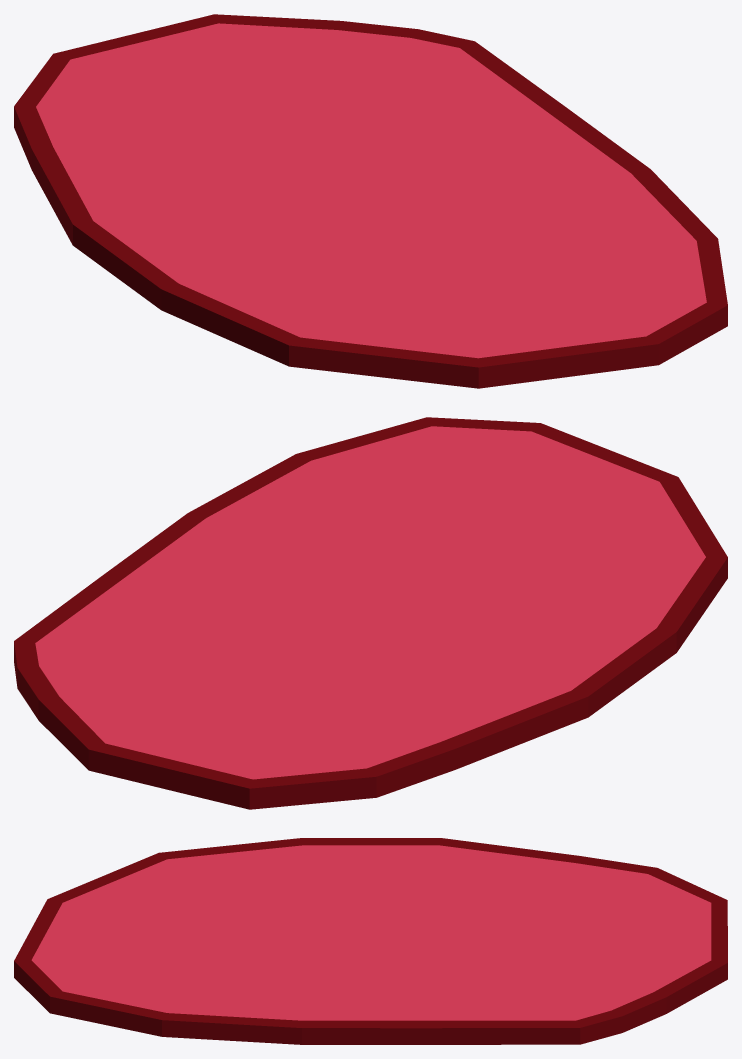
The model's file is wolf meat.fbx.
The picture shows the model from 3 angles, top to bottom: view 1: azimuth 30°, elevation 25°; view 2: azimuth 150°, elevation 25°; view 3: azimuth 270°, elevation 25°; orthographic projection. The views are drawn at different scales.
Parts seen in each view (by area): view 1: Plane; view 2: Plane; view 3: Plane.
Boxes of the visible parts, left/top/right/bottom form: Plane: left=14, top=14, right=727, bottom=388; Plane: left=14, top=417, right=727, bottom=809; Plane: left=14, top=838, right=727, bottom=1044.
Size of the model in its own units: 61.93 by 2.55 by 98.27.
